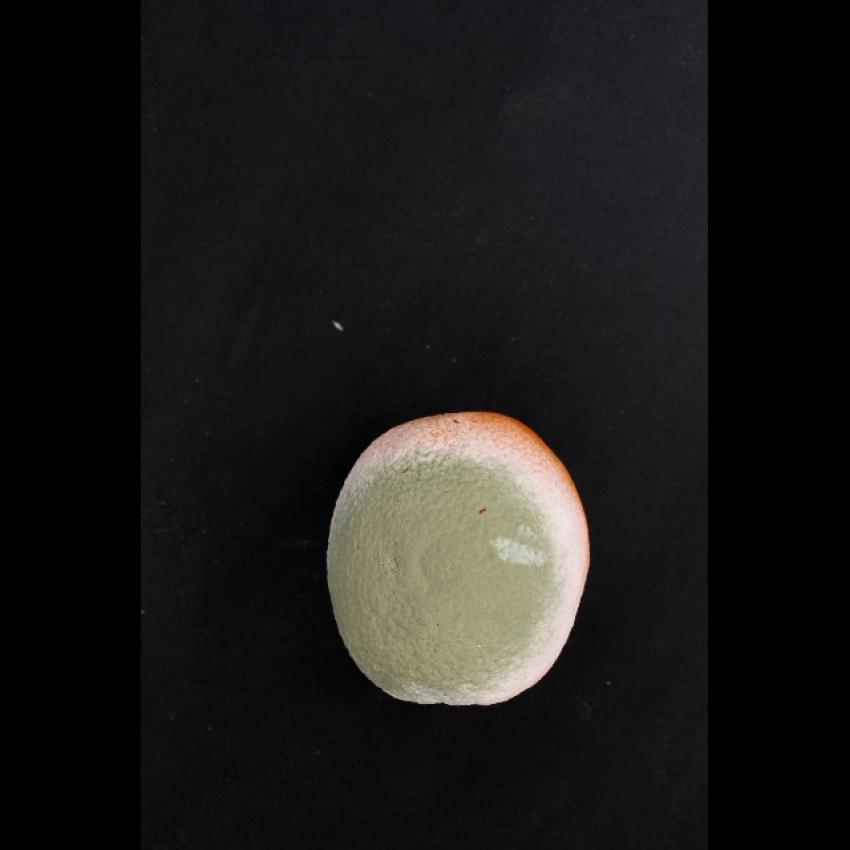Mal estado: (316, 402, 592, 715)
